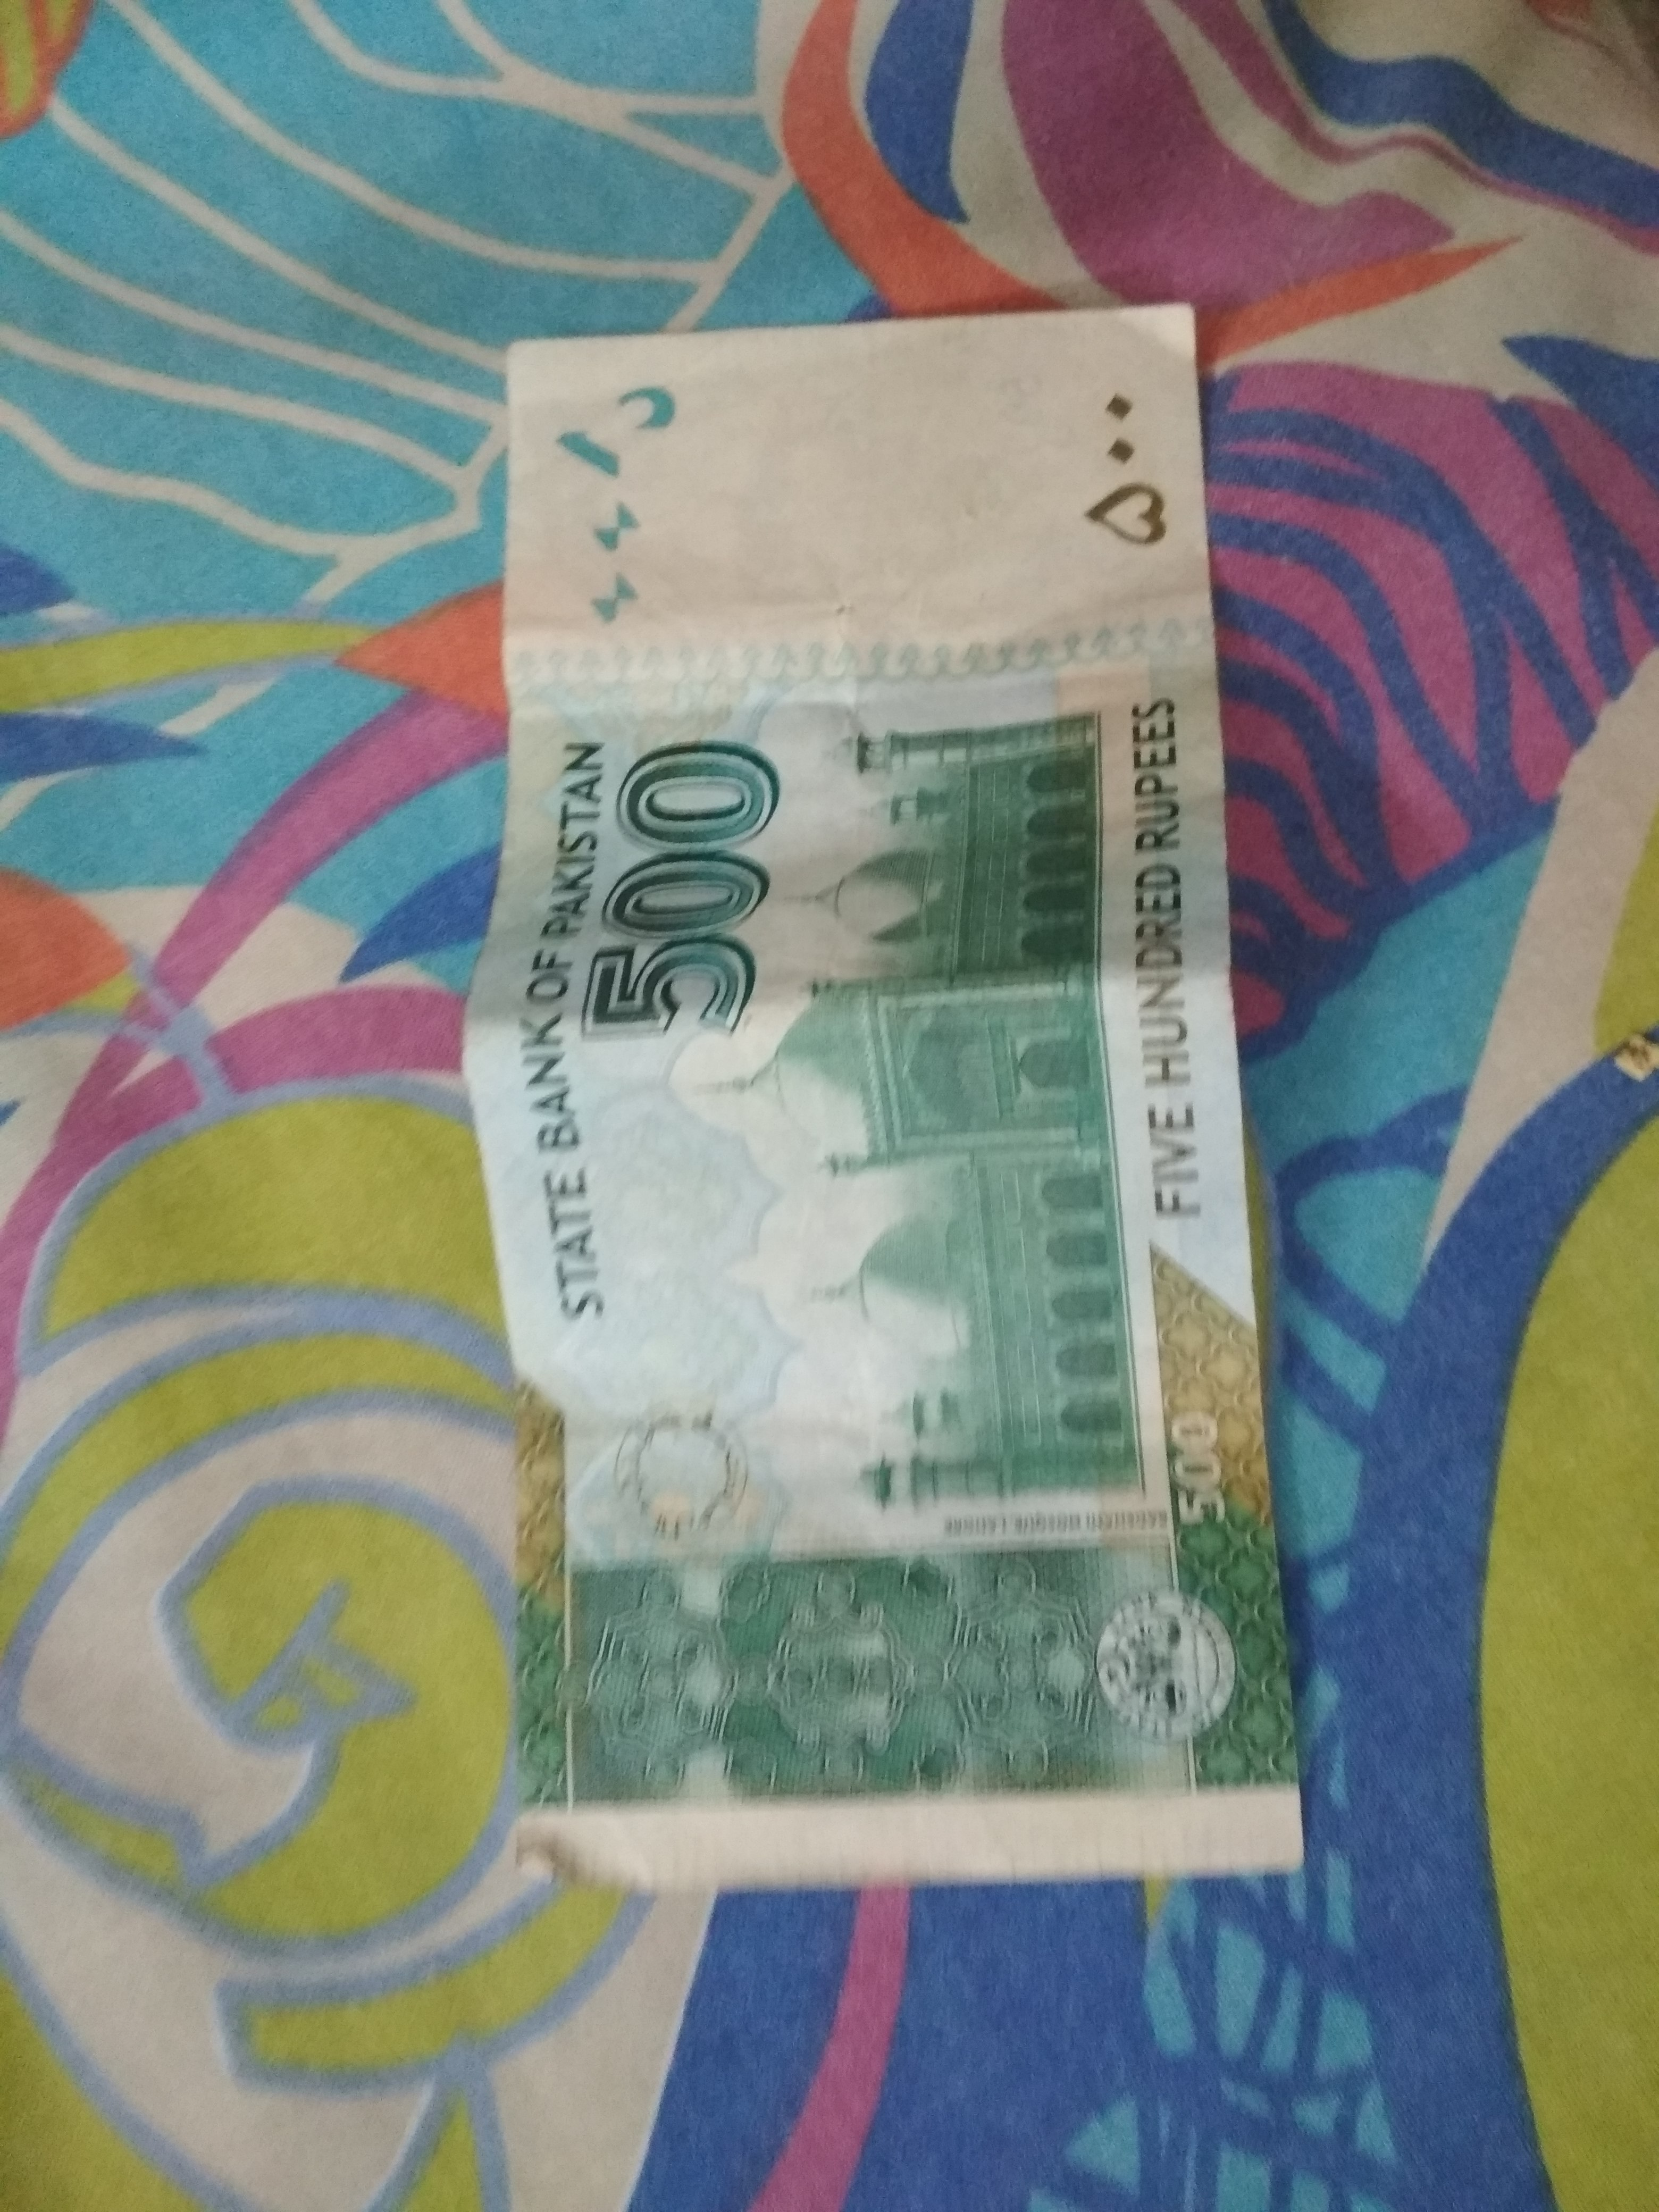500 rupee: (420, 310, 1413, 1925)
